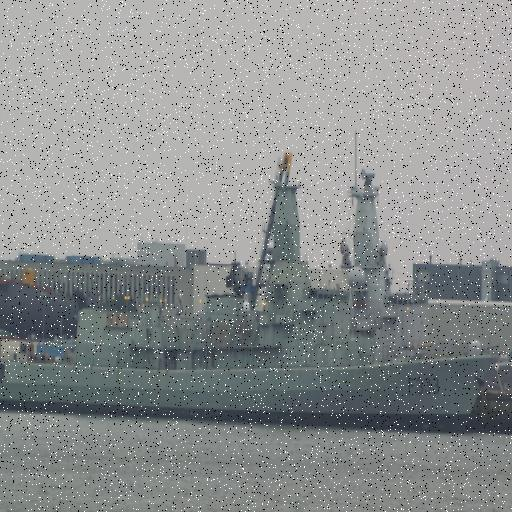Fragata: (1, 145, 502, 445)
